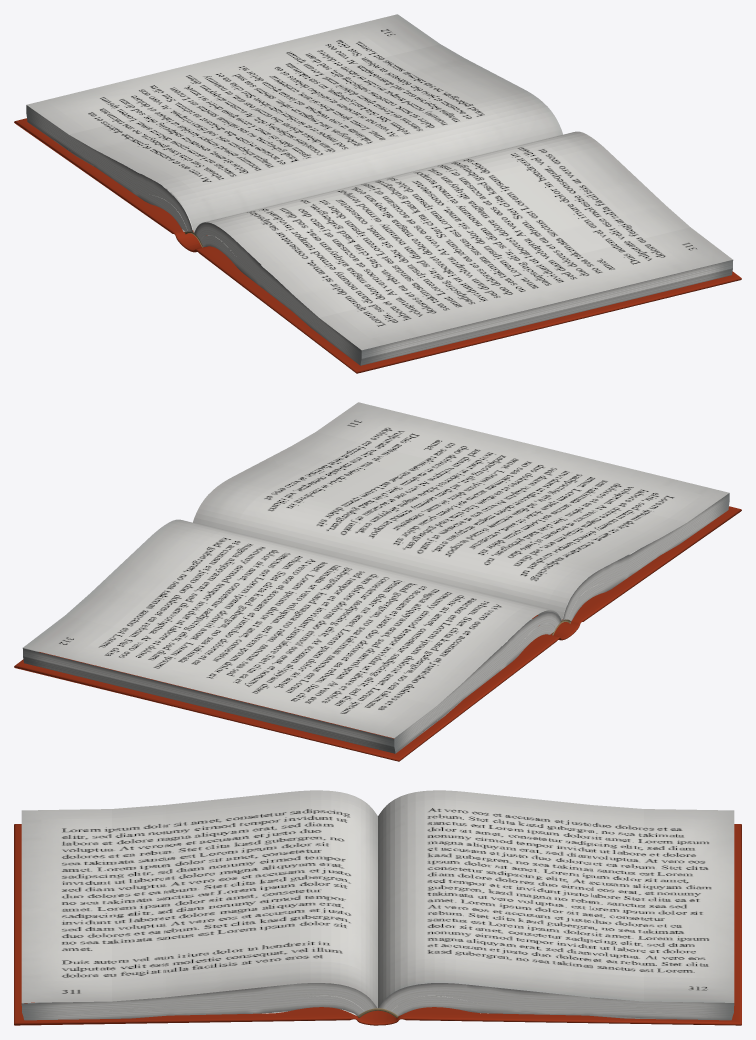
File: Book (open, readable)NEW.fbx
3 views of the same model, one above another, from view 1: azimuth 30°, elevation 25°; view 2: azimuth 150°, elevation 25°; view 3: azimuth 270°, elevation 25° (orthographic). The views are drawn at different scales.
Parts seen in each view (by area): view 1: Book pages, Book cover; view 2: Book pages, Book cover; view 3: Book pages, Book cover.
Boxes of the visible parts, bbox=[...] form: Book pages: bbox=[26, 14, 733, 365]; Book cover: bbox=[14, 118, 741, 373]; Book pages: bbox=[22, 402, 729, 753]; Book cover: bbox=[14, 506, 741, 761]; Book pages: bbox=[21, 790, 734, 1020]; Book cover: bbox=[14, 824, 741, 1025].
Size of the model in its own units: 209 by 19.79 by 323.
